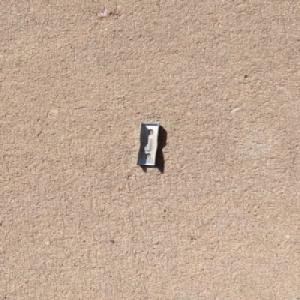ClampPart: (135, 121, 163, 168)
